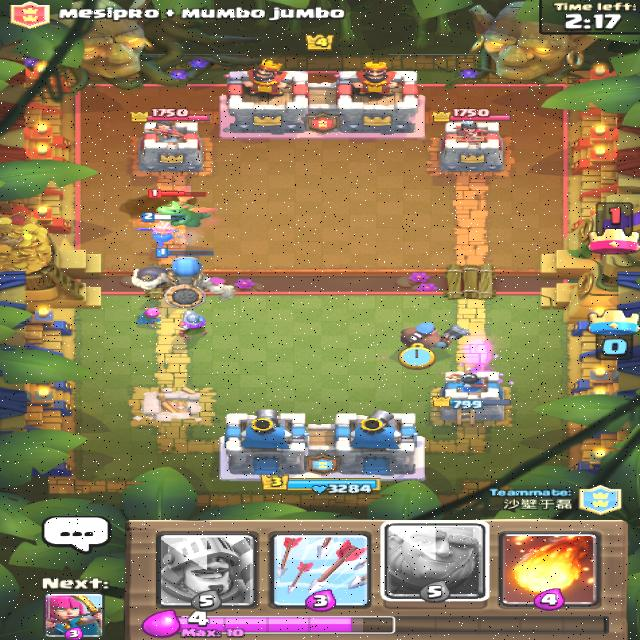Enemy-BabyDragon: (145, 184, 215, 226)
Player-Archer: (133, 304, 165, 329)
Player-GiantSkeleton: (129, 247, 234, 307)
Player-Hunter: (398, 320, 469, 350)
Player-Musketeer: (176, 309, 209, 340)
Player-Valkyrie: (133, 212, 178, 247)
